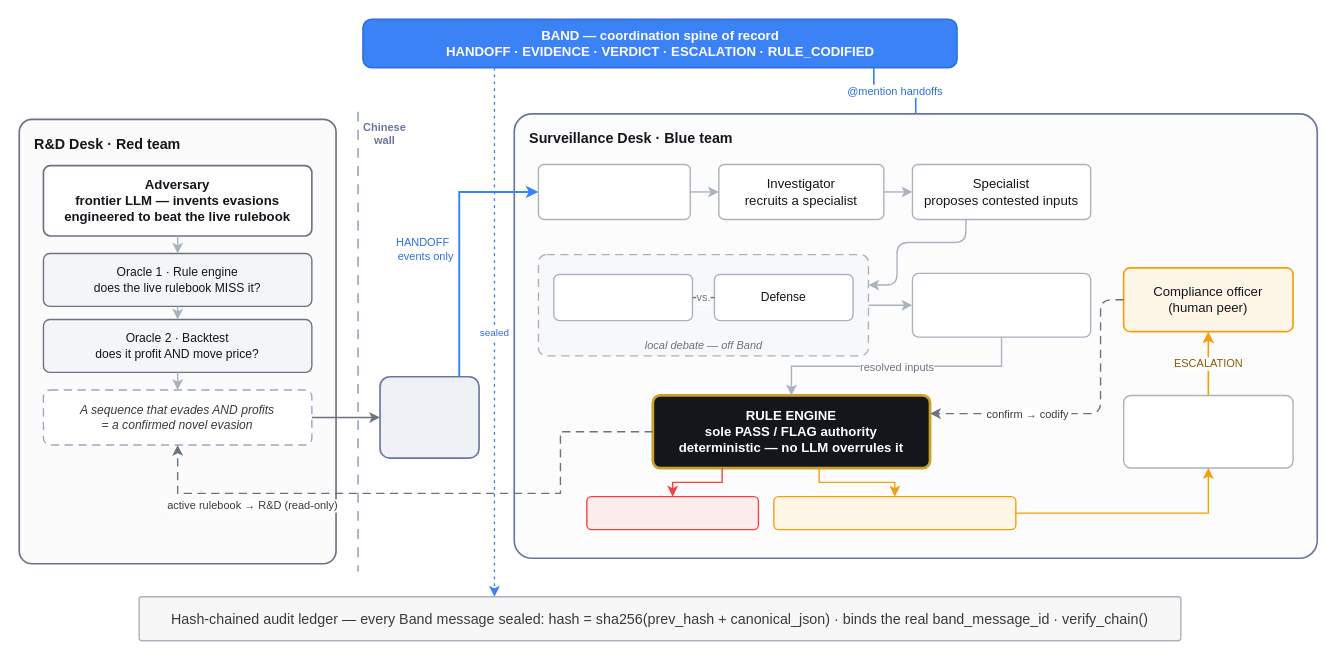
Image size: 1338x661. Some labels were removed from this diagram. Here are the shapes that lost their labels. From the top down, the centre of each, then its label:
the point at 613,191: Anomaly Detector
the point at 623,297: Prosecution
the point at 1001,304: Adjudicator resolves the inputs
the point at 429,416: Sanitized Bridge strips reasoning + model_key
the point at 1207,431: Escalation Manager
the point at 672,512: FLAG → case FLAGGED
the point at 894,512: PASS on suspicious flow → ESCALATED
